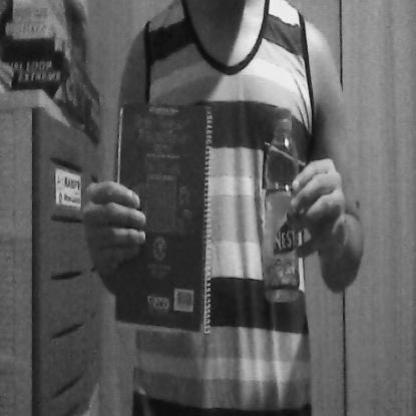Plastic Bottle: (258, 97, 304, 313)
